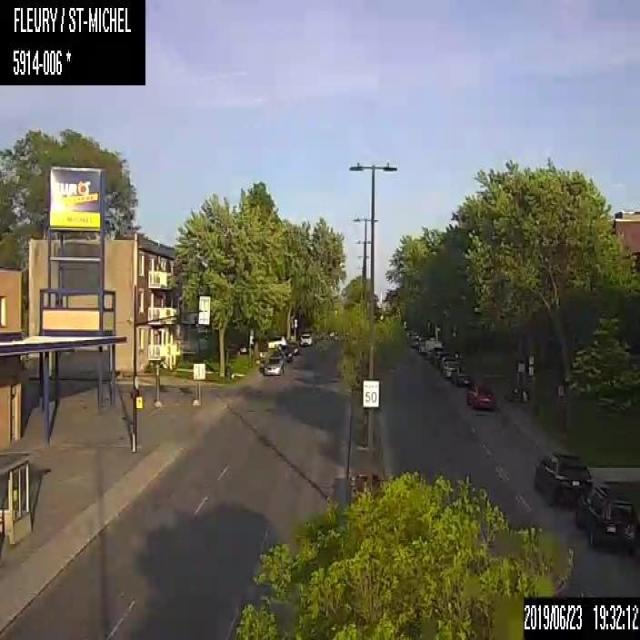vehicle: (576, 478, 638, 549), (532, 449, 594, 511), (466, 383, 494, 408), (261, 354, 284, 376), (449, 365, 472, 386), (298, 330, 312, 350), (267, 336, 287, 349), (442, 360, 456, 377), (278, 345, 293, 360)
